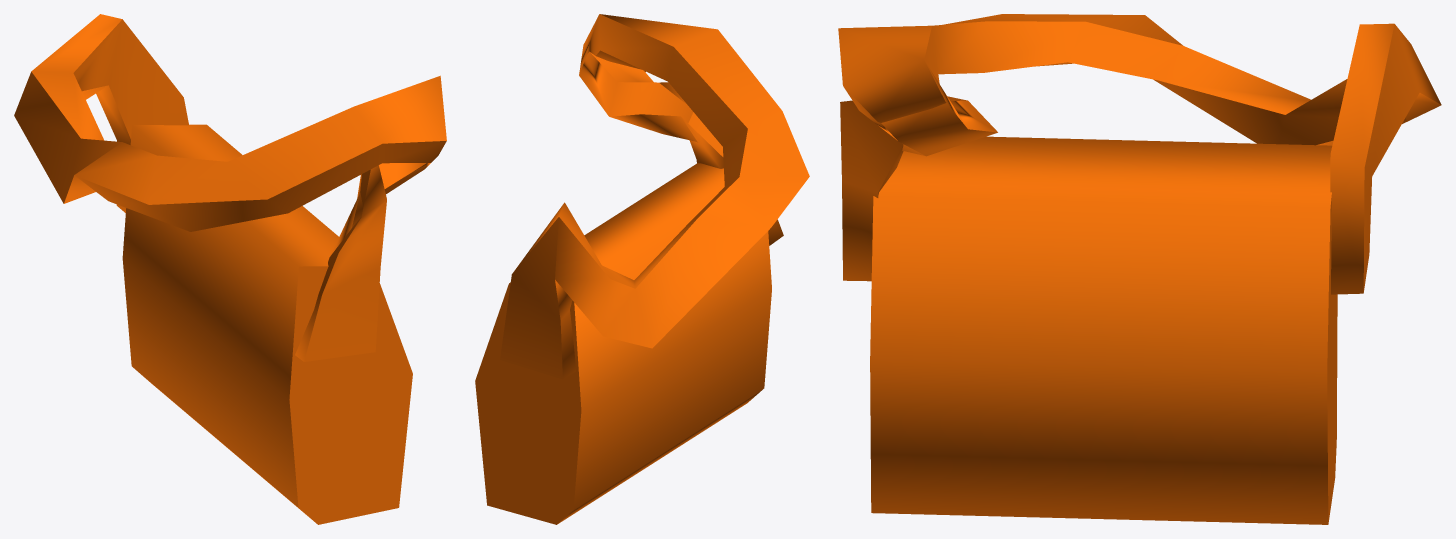
Rendered from soldiers_hawk_2_medicBag_onGround.fbx.
The picture shows the model from 3 angles, left to right: view 1: azimuth 30°, elevation 25°; view 2: azimuth 150°, elevation 25°; view 3: azimuth 270°, elevation 25°; orthographic projection. The views are drawn at different scales.
Visible parts, largest first — view 1: soldiers_hawk_2_medicBag_onGround; view 2: soldiers_hawk_2_medicBag_onGround; view 3: soldiers_hawk_2_medicBag_onGround.
Part boxes in pixels (<box>): soldiers_hawk_2_medicBag_onGround: <box>14,14,446,524</box>; soldiers_hawk_2_medicBag_onGround: <box>475,14,809,524</box>; soldiers_hawk_2_medicBag_onGround: <box>838,14,1441,524</box>.
Bounding box in the file's own units: 12.97 × 17.44 × 19.43.
